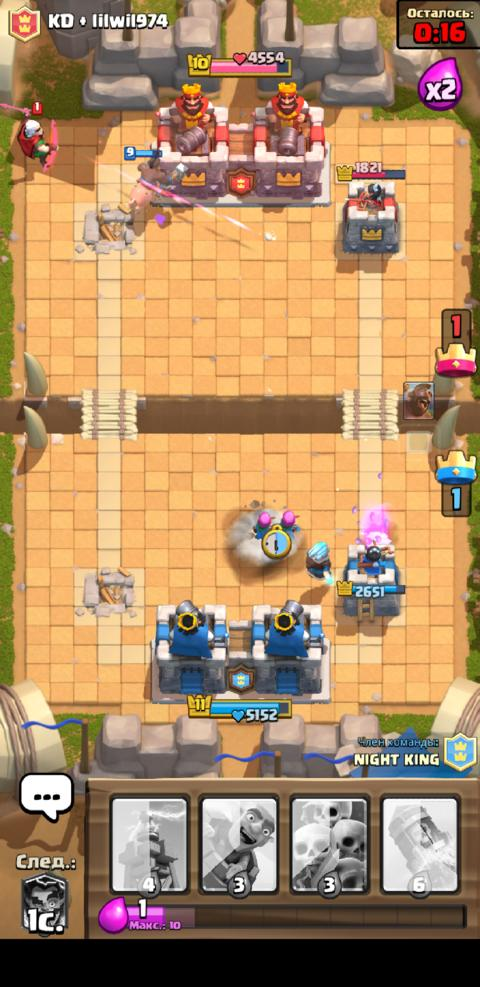ally_archer: (249, 509, 276, 539), (277, 507, 301, 537)
ally_hog_rider: (121, 144, 189, 215)
ally_ice_wizard: (303, 539, 334, 585)
enemy_magic_archer: (16, 100, 59, 172)
